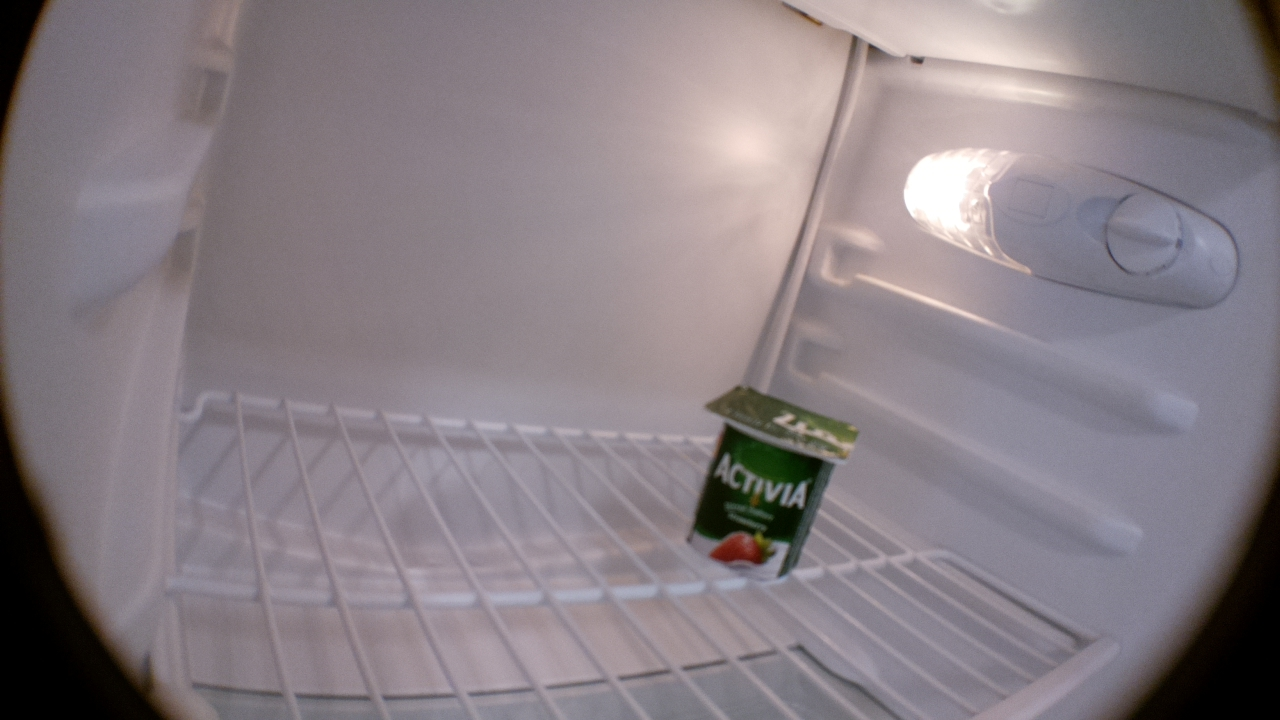yoghurt: (681, 379, 861, 582)
